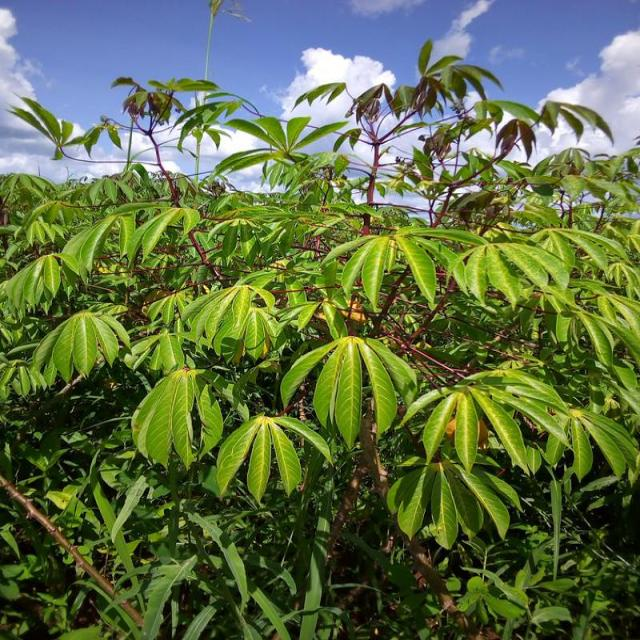cassava leaf: (215, 409, 332, 504), (130, 364, 224, 471)
